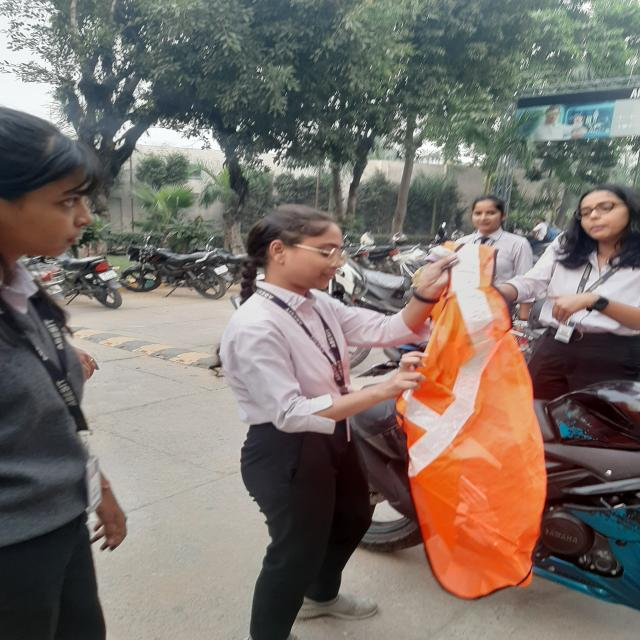unsafe: (0, 102, 135, 639), (225, 205, 387, 640), (527, 184, 640, 394)
